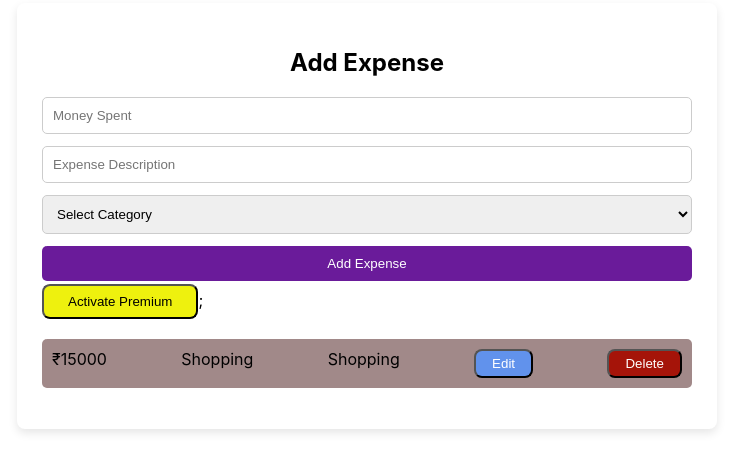
Scenario: Async test cases › Activates toggle theme on clicking Activat premium button
Click the button "Activate Premium".
click(120, 301)  # box [42,284,198,319]
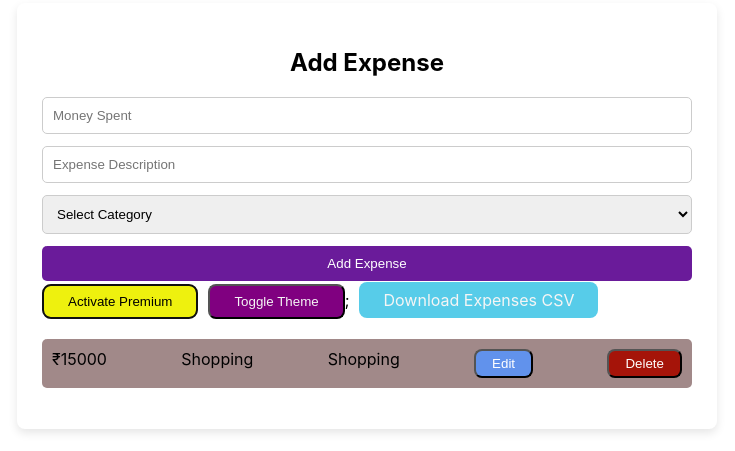
Expected: the button "Toggle Theme" is shown, [208,284,345,319]
